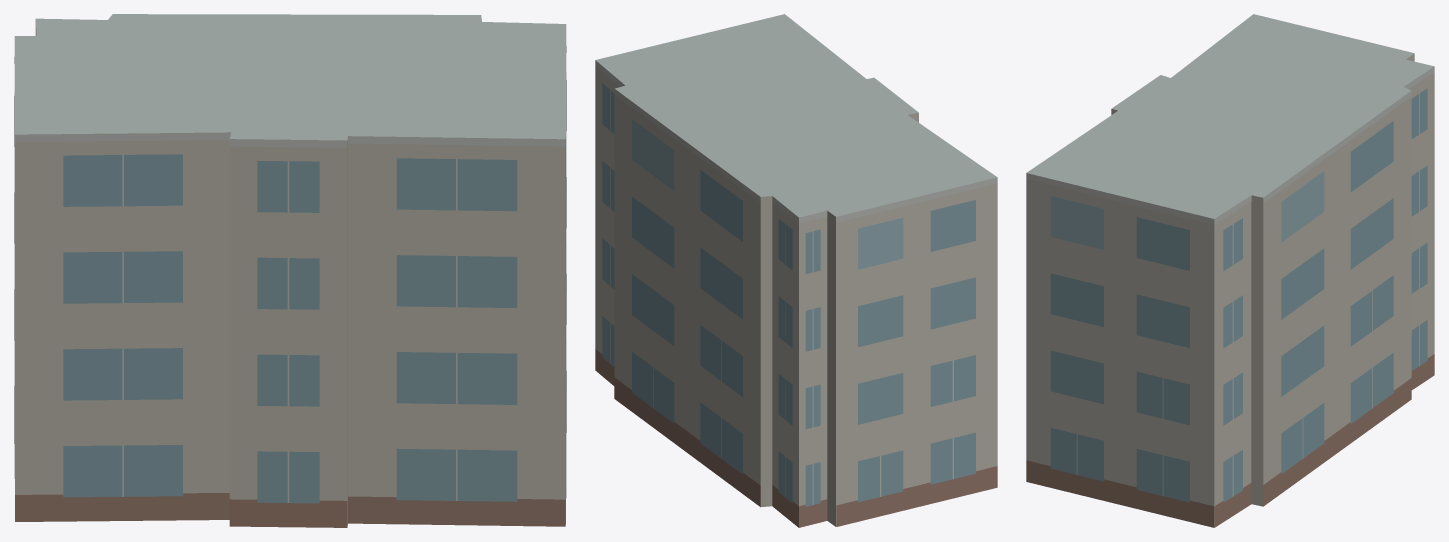
Rendered from survey-upis-32665147.glb.
3 renders of one model, left to right at view 1: azimuth 30°, elevation 25°; view 2: azimuth 150°, elevation 25°; view 3: azimuth 270°, elevation 25°, orthographic. The views are drawn at different scales.
Parts seen in each view (by area): view 1: survey-upis-32665147.tmp; view 2: survey-upis-32665147.tmp; view 3: survey-upis-32665147.tmp.
Part boxes in pixels (x1,y1,x2,y2): survey-upis-32665147.tmp: (14,14,566,527); survey-upis-32665147.tmp: (595,14,997,527); survey-upis-32665147.tmp: (1026,14,1434,527).
Size of the model in its own units: 18.23 by 12.8 by 15.35.
